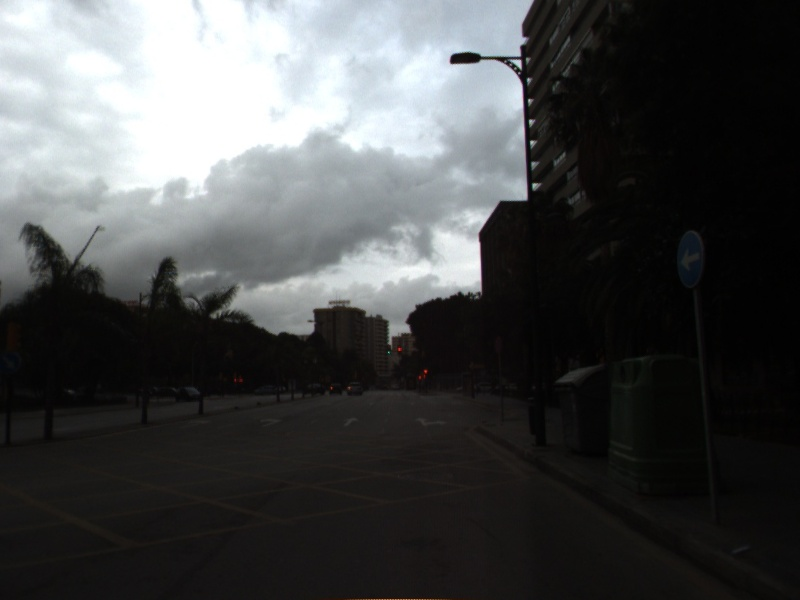LEFT: (176, 417, 212, 431), (258, 416, 285, 429)
STRAIGHT: (341, 415, 362, 428)
STRAIGHT_RIGHT: (412, 415, 450, 429)
